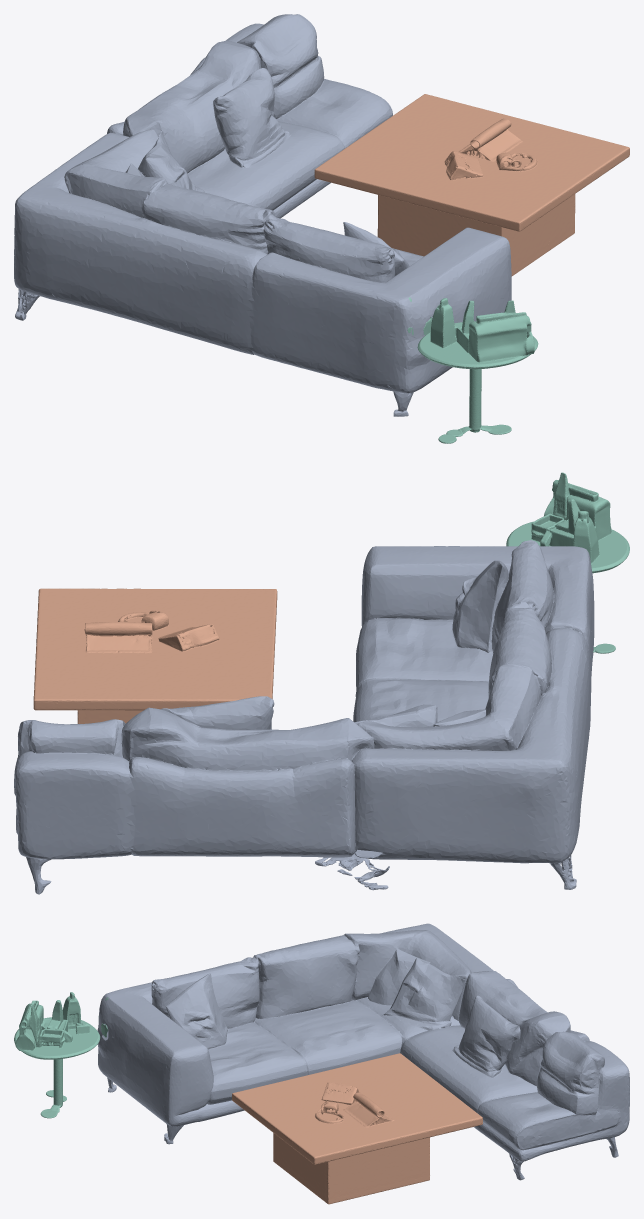
File: ours_draco.glb
3 renders of one model, top to bottom at view 1: azimuth 30°, elevation 25°; view 2: azimuth 150°, elevation 25°; view 3: azimuth 270°, elevation 25°, orthographic. The views are drawn at different scales.
Visible parts, largest first — view 1: target_2_0, target_1_0, target_0_0; view 2: target_2_0, target_1_0, target_0_0; view 3: target_2_0, target_1_0, target_0_0.
Part boxes in pixels (box(x1,y1,x2,y2)): target_2_0: box(14, 14, 511, 416); target_1_0: box(314, 94, 629, 276); target_0_0: box(407, 297, 538, 443); target_2_0: box(14, 540, 594, 894); target_1_0: box(33, 588, 277, 723); target_0_0: box(506, 472, 629, 653); target_2_0: box(97, 923, 629, 1180); target_1_0: box(232, 1053, 482, 1204); target_0_0: box(14, 992, 108, 1118).
Size of the model in its own units: 1.03 by 0.2689 by 1.25.
